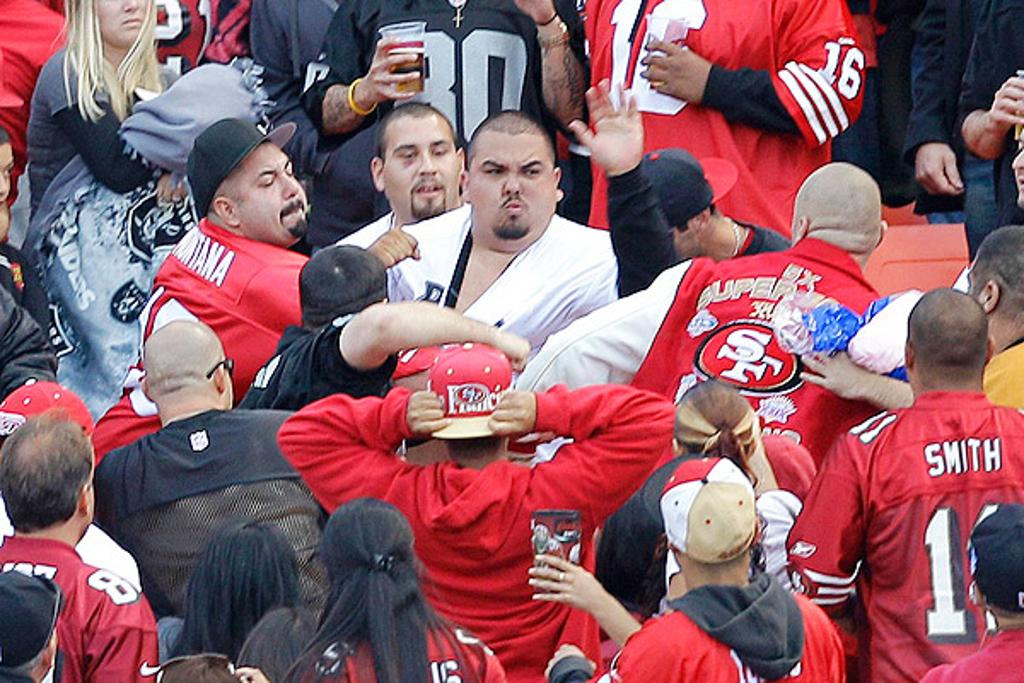face: (474, 128, 548, 240), (238, 158, 314, 238), (388, 126, 446, 204), (101, 1, 157, 44)
